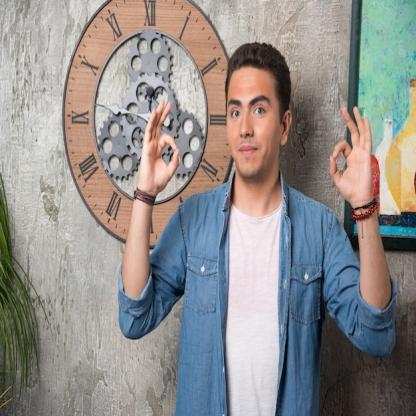ok: (328, 98, 374, 214), (140, 96, 182, 200)
